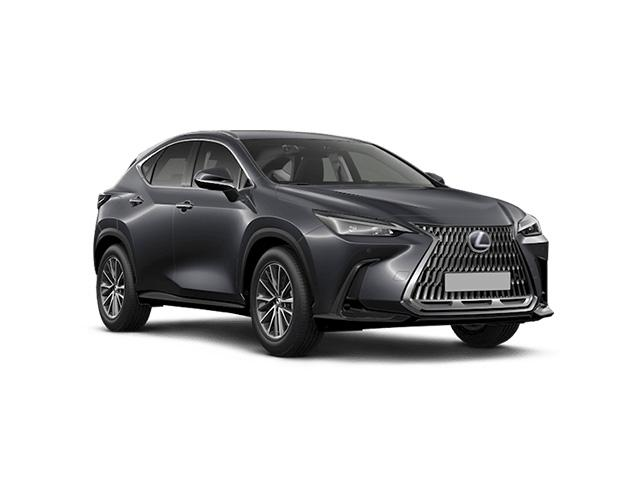lexus: (92, 128, 554, 356)
